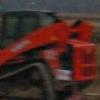Tractor: (7, 6, 100, 100)
